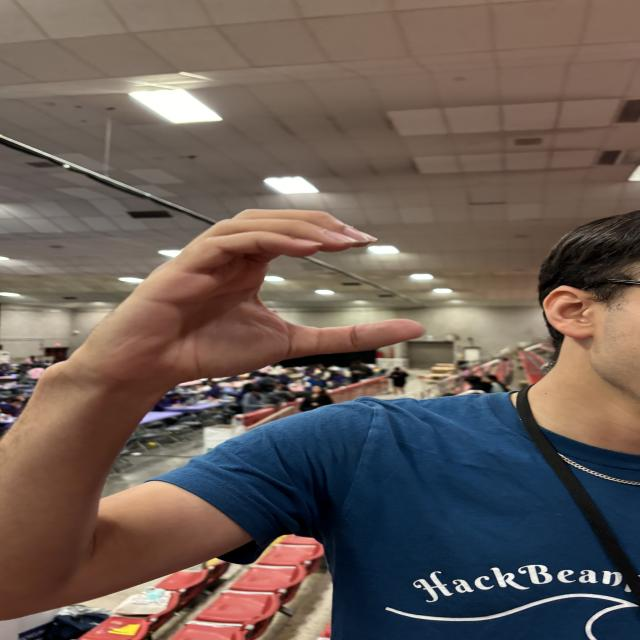C: (84, 201, 454, 378)
